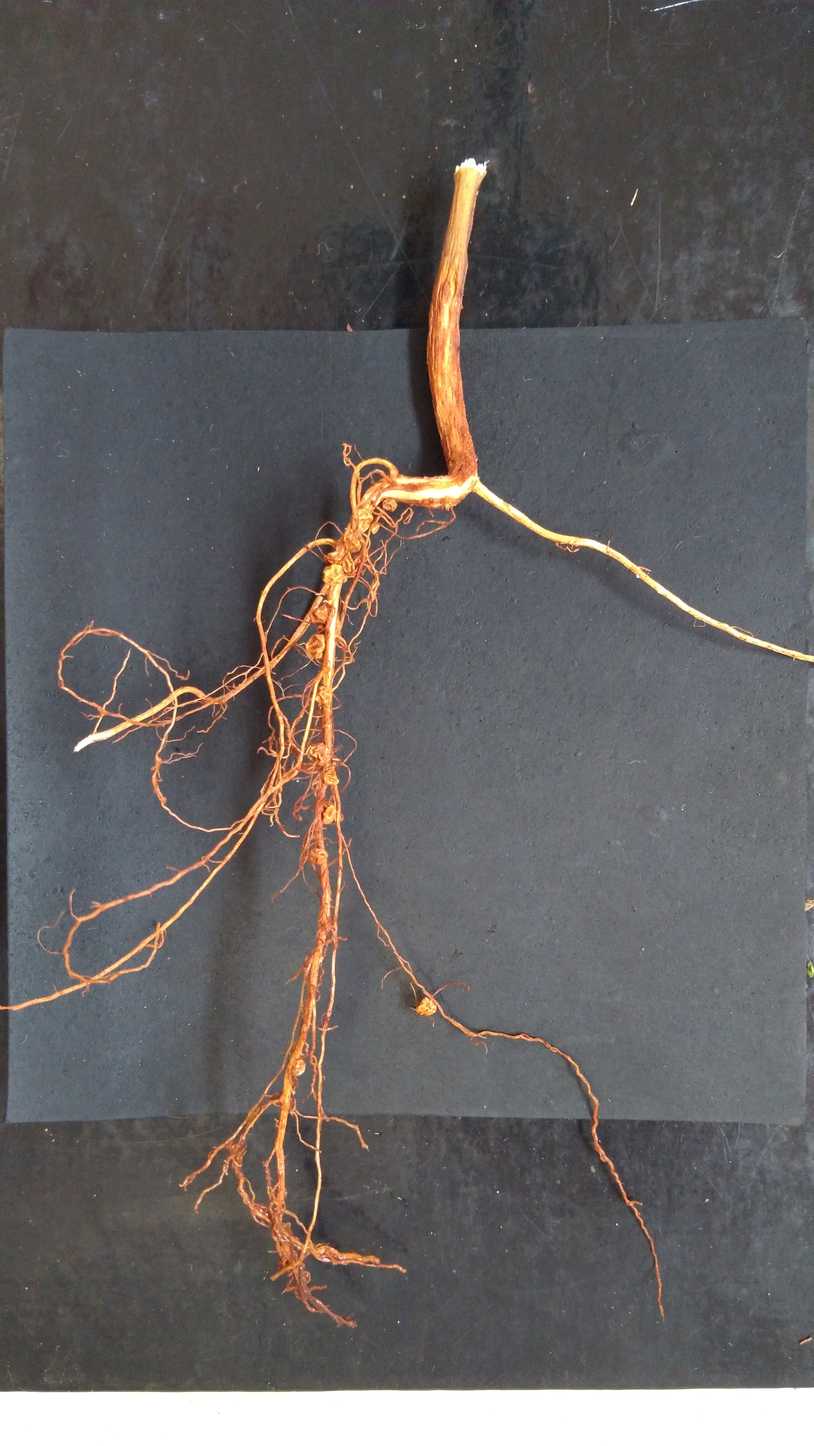nodule: (321, 563, 348, 587), (306, 741, 331, 766), (304, 633, 326, 660), (415, 996, 437, 1018), (357, 507, 374, 534), (308, 847, 331, 866), (308, 604, 328, 625), (327, 544, 347, 564), (345, 533, 362, 553), (314, 684, 331, 704), (320, 805, 337, 825), (322, 769, 341, 786), (380, 497, 398, 513), (341, 554, 353, 575), (292, 1059, 306, 1076), (370, 522, 381, 535)
